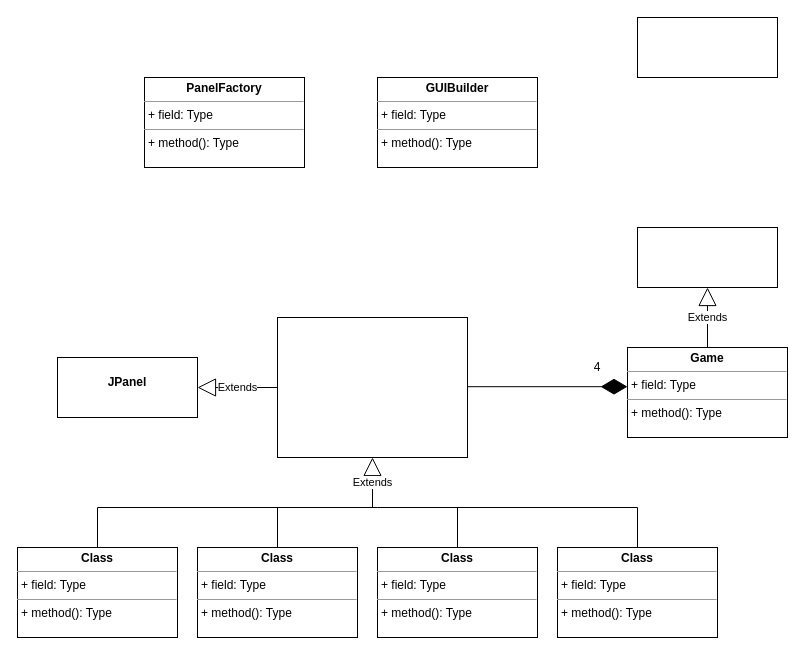
This 805x655 diagram has some shape labels left out. The box of each missing label's shape, as (x1, y1, x2, y2) in pixels:
<<abstract>> GUIPanel: (276, 316, 468, 458)
JFrame: (636, 226, 778, 288)
Main: (636, 16, 778, 78)
